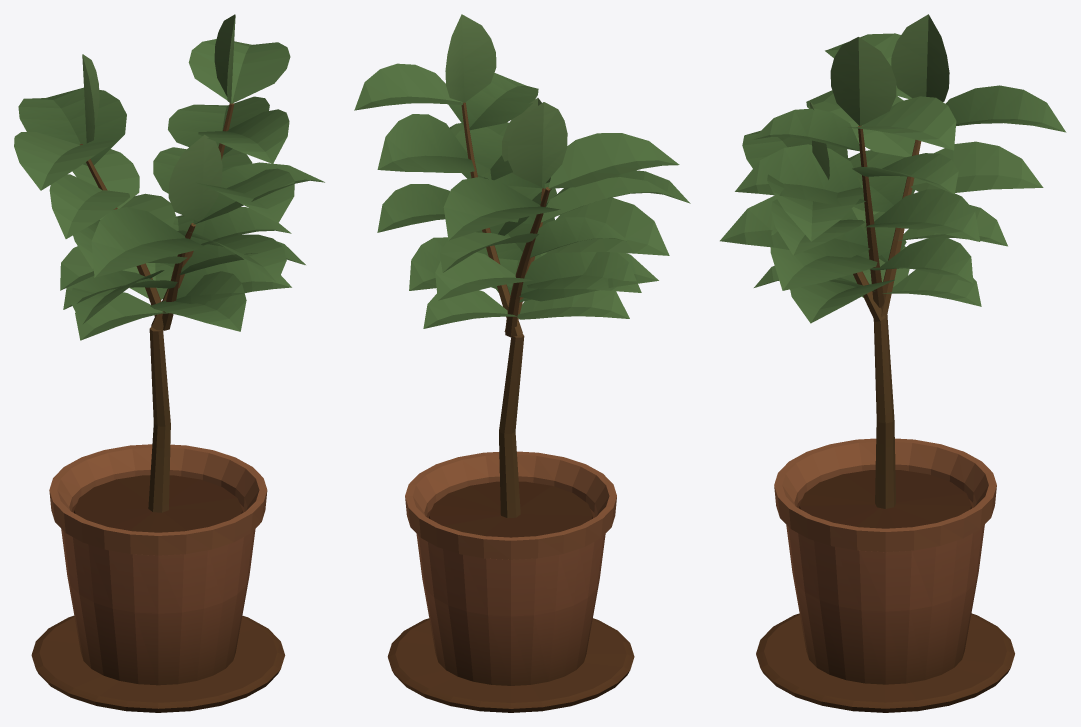
Rendered from bookshop-floor-plant.glb.
3 views of the same model, side by side, from view 1: azimuth 30°, elevation 25°; view 2: azimuth 150°, elevation 25°; view 3: azimuth 270°, elevation 25° (orthographic). The views are drawn at different scales.
Parts seen in each view (by area): view 1: bookshop_floor_plant; view 2: bookshop_floor_plant; view 3: bookshop_floor_plant.
Part boxes in pixels (x1,y1,x2,y2): bookshop_floor_plant: [14, 14, 324, 712]; bookshop_floor_plant: [354, 14, 690, 712]; bookshop_floor_plant: [720, 14, 1066, 712].
Size of the model in its own units: 0.6585 by 1.43 by 0.6854.
